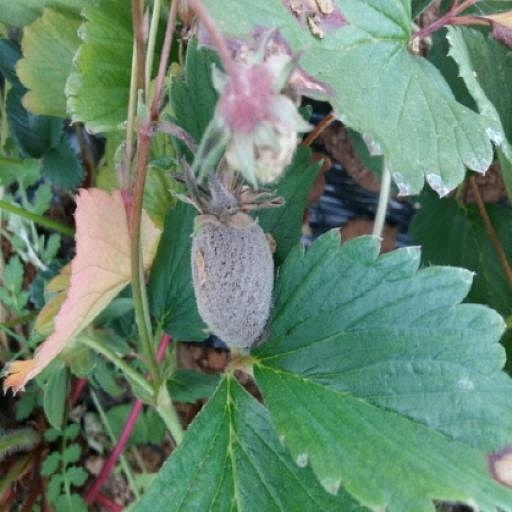Blossom Blight: (226, 164, 344, 361)
